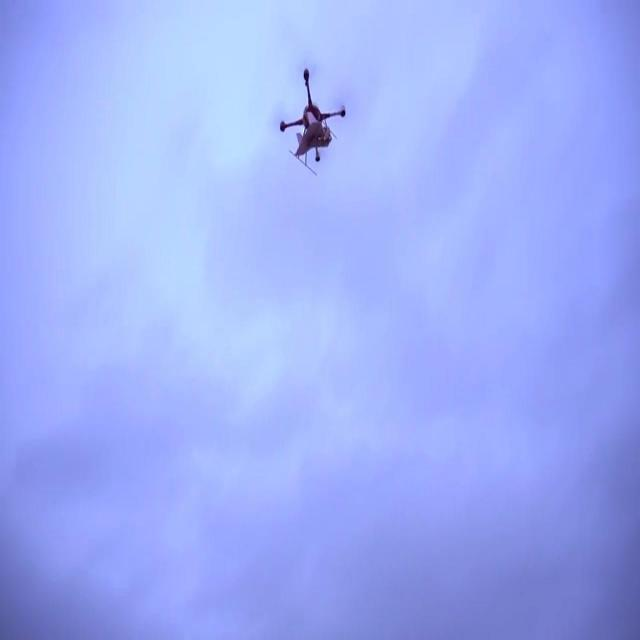UAV: (280, 69, 346, 176)
